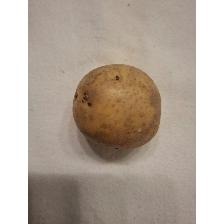Kartoffel: (71, 60, 164, 152)
